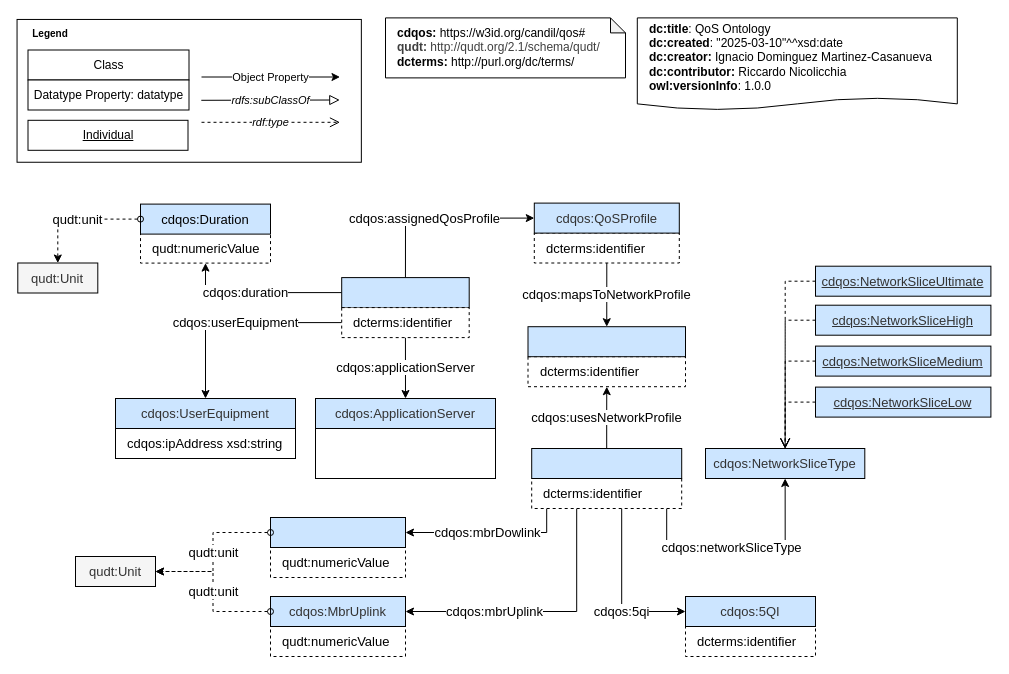
The diagram is 1009 pixels wide and 674 high, and some of its shapes have lost their labels. The box of each missing label's shape, as (x1, y1, x2, y2) in pixels:
cdqos:ipAddress xsd:string cdqos:scsAsId xsd:string: (314, 428, 496, 478)
cdqos:MbrDownlink: (270, 516, 406, 548)
cdqos:NetworkProfile: (527, 326, 686, 357)
cdqos:NetworkSlice: (531, 448, 682, 478)
cdqos:Session: (341, 277, 469, 308)
